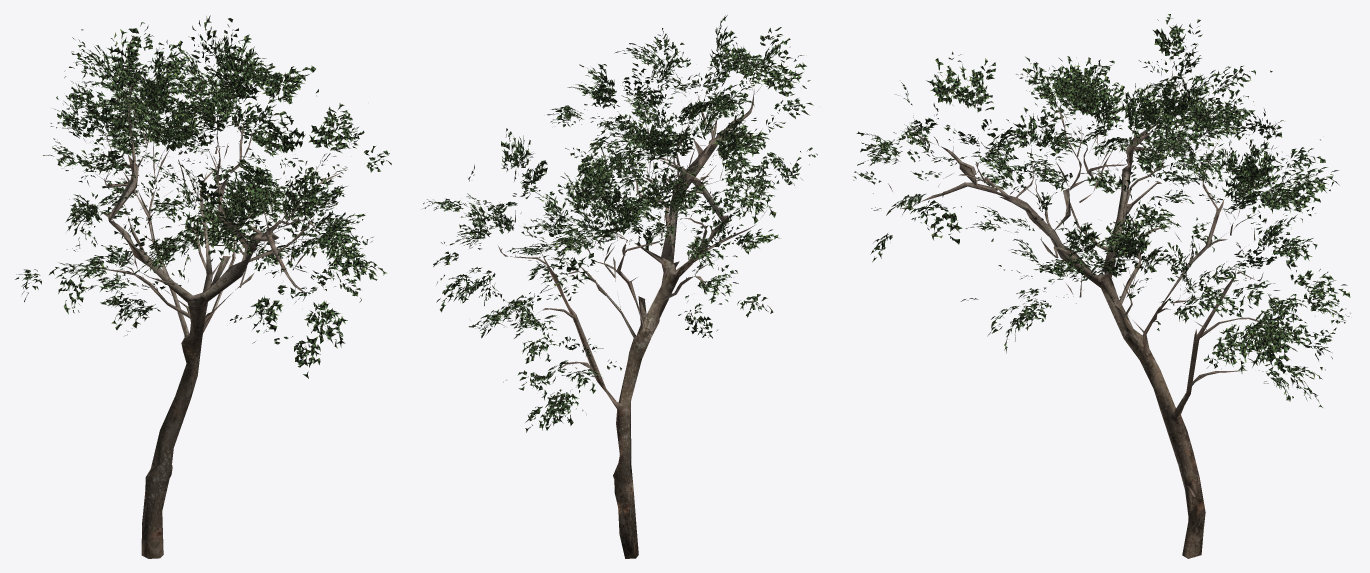
Rendered from tree_small.glb.
The picture shows the model from 3 angles, left to right: view 1: azimuth 30°, elevation 25°; view 2: azimuth 150°, elevation 25°; view 3: azimuth 270°, elevation 25°; orthographic projection. The views are drawn at different scales.
Parts seen in each view (by area): view 1: tree_small_02_LOD0; view 2: tree_small_02_LOD0; view 3: tree_small_02_LOD0.
Part boxes in pixels (<box>): tree_small_02_LOD0: <box>15,15,391,558</box>; tree_small_02_LOD0: <box>421,15,817,558</box>; tree_small_02_LOD0: <box>853,14,1350,558</box>.
Size of the model in its own units: 2.88 by 4.54 by 4.14.
3 materials, 3 textured.
